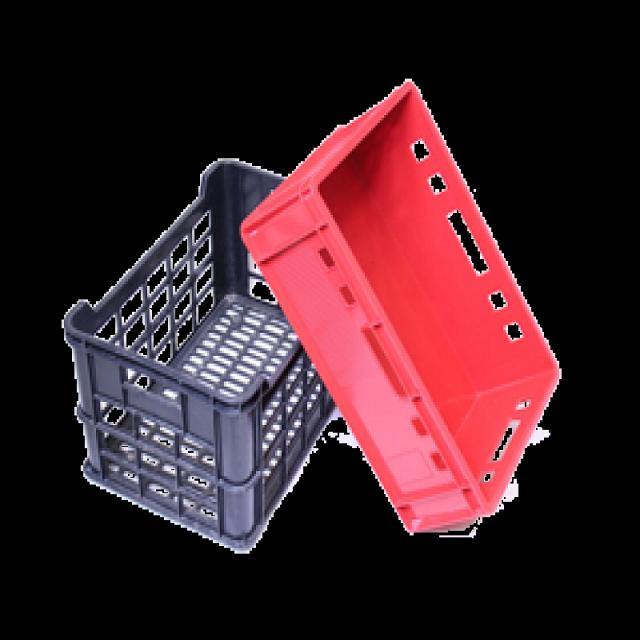basket: (213, 77, 610, 559), (24, 145, 363, 583)
